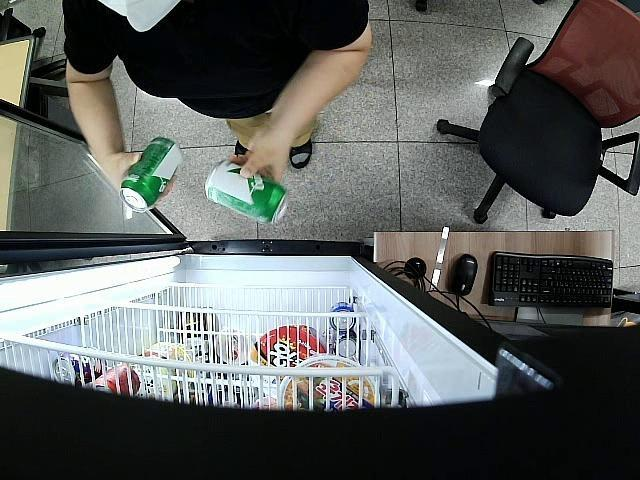12_chilsungCider: (205, 161, 288, 226), (120, 138, 181, 210)
